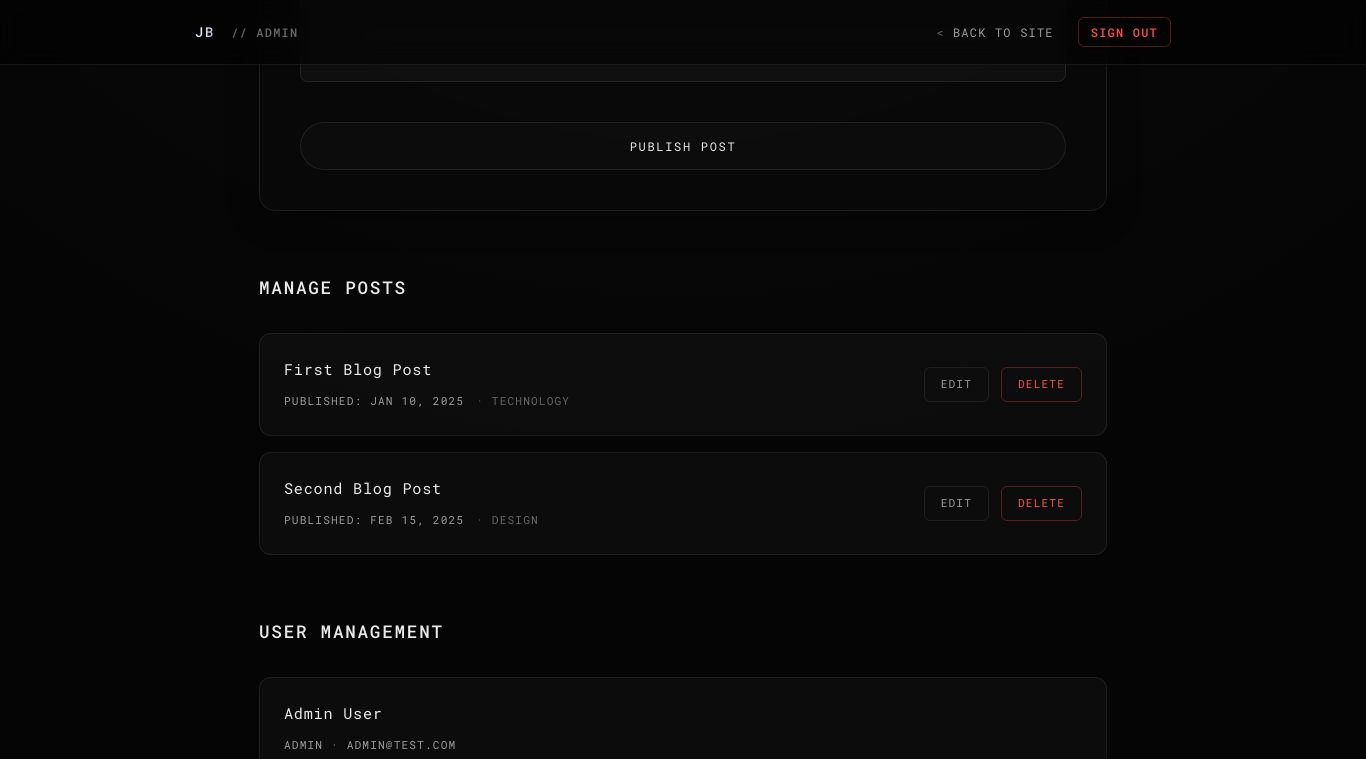
Test: AdminDashboard › clicking EDIT populates the title field
This screenshot has width=1366, height=759.
(page scrolled)
Expected: the heading "First Blog Post" is shown, [284,359,432,379]
Click the button "EDIT" in the row of "Technology" at (956, 384), box [924,367,989,402]
(page scrolled)
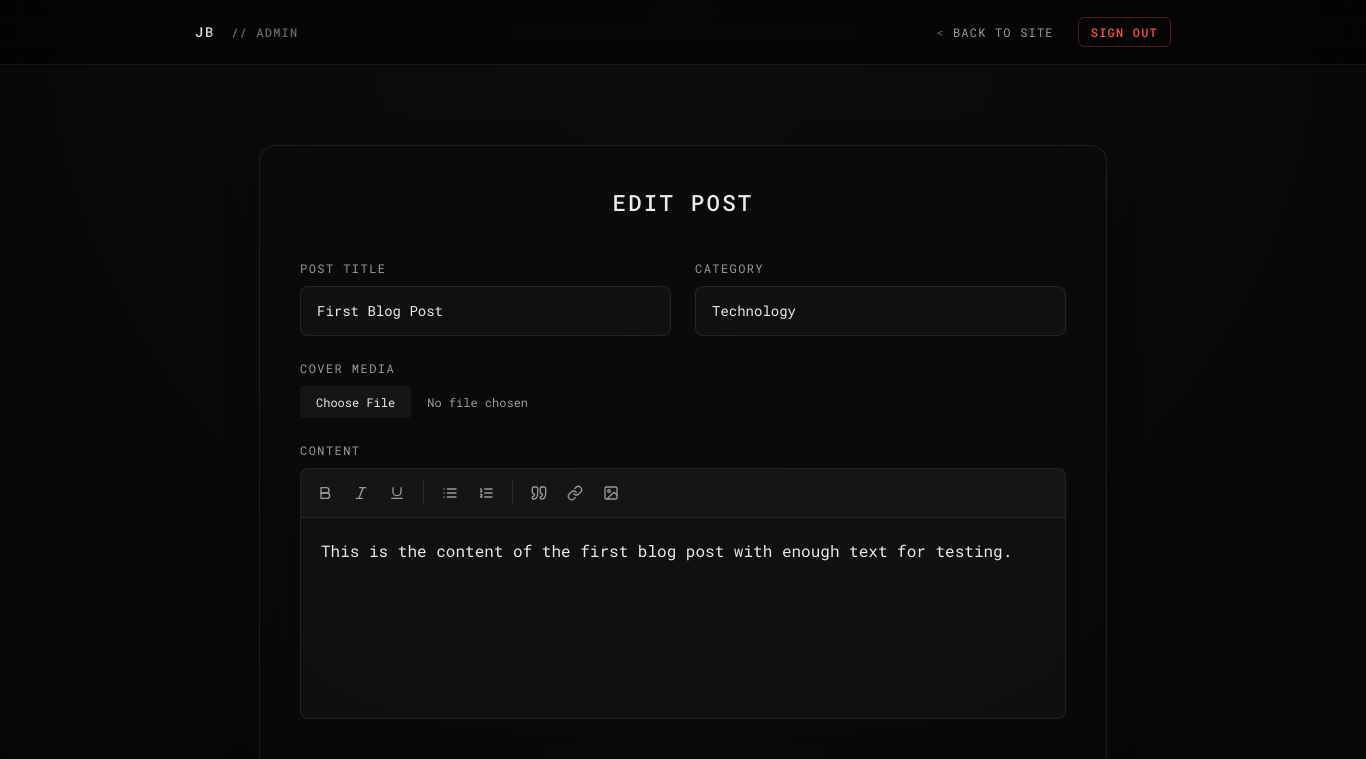
Expected: the field with placeholder "Enter title..." below "Post Title" holds "First Blog Post", [300,286,671,336]
